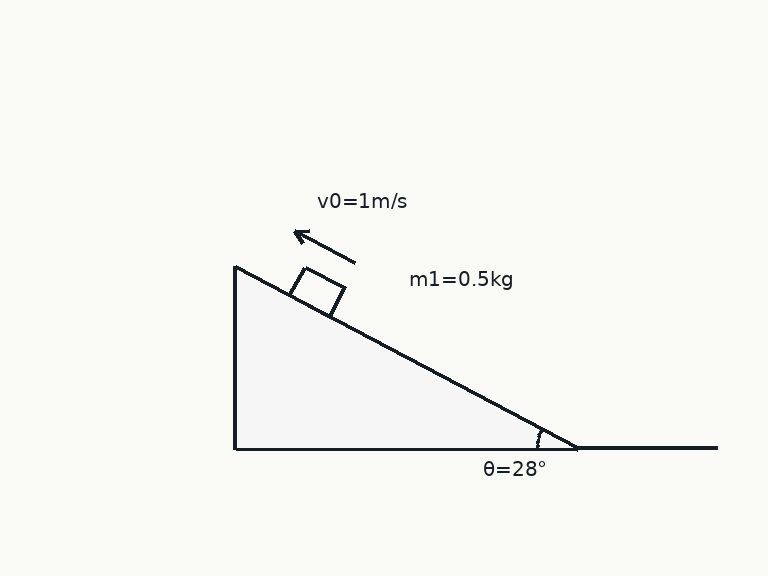block: (288, 265, 346, 318)
ramp: (233, 264, 579, 450)
